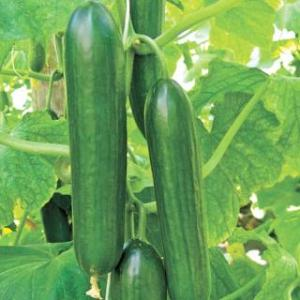cucumber: (64, 0, 126, 278), (142, 72, 214, 300), (125, 0, 166, 144), (110, 236, 166, 300)
